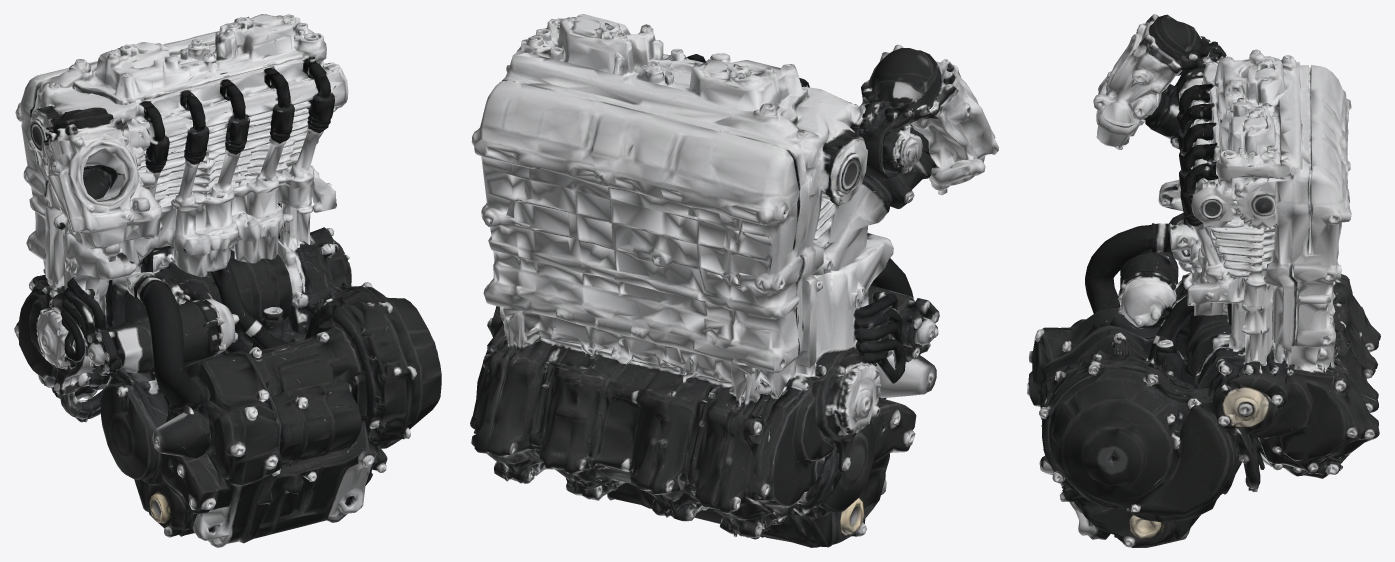
The model's file is mesin-bensin-lite.glb.
The picture shows the model from 3 angles, left to right: view 1: azimuth 30°, elevation 25°; view 2: azimuth 150°, elevation 25°; view 3: azimuth 270°, elevation 25°; orthographic projection. The views are drawn at different scales.
Bounding box in the file's own units: 1.63 × 1.9 × 1.43.
1 material, 1 textured.
